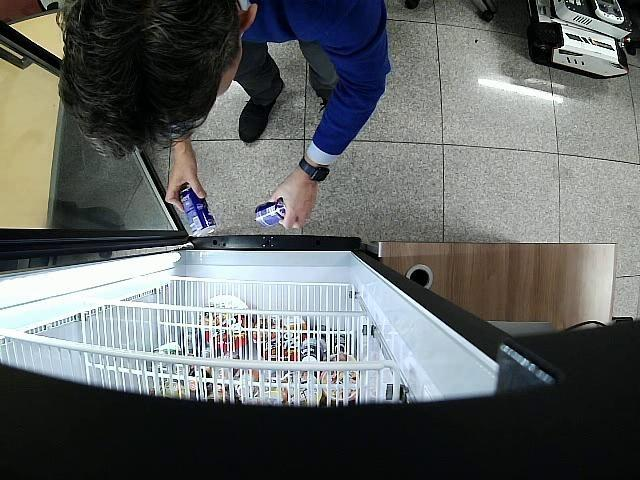14_welchsGrape: (180, 188, 218, 238), (254, 200, 284, 228)
